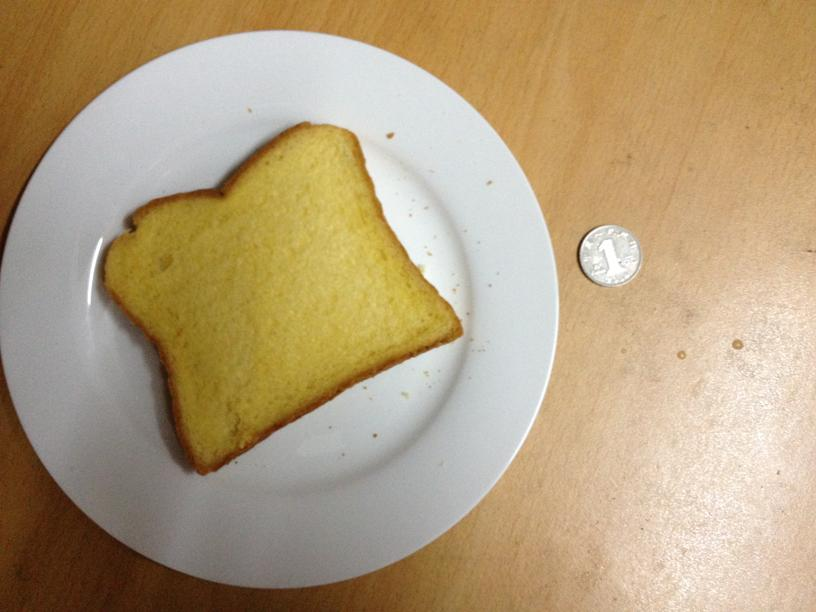bread: (82, 123, 461, 474)
coin: (579, 221, 643, 288)
